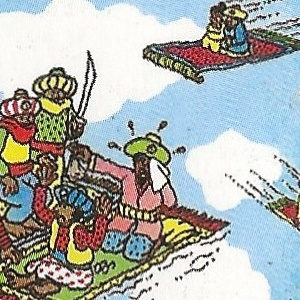Wizard Whitebeard: (150, 116, 172, 184)
